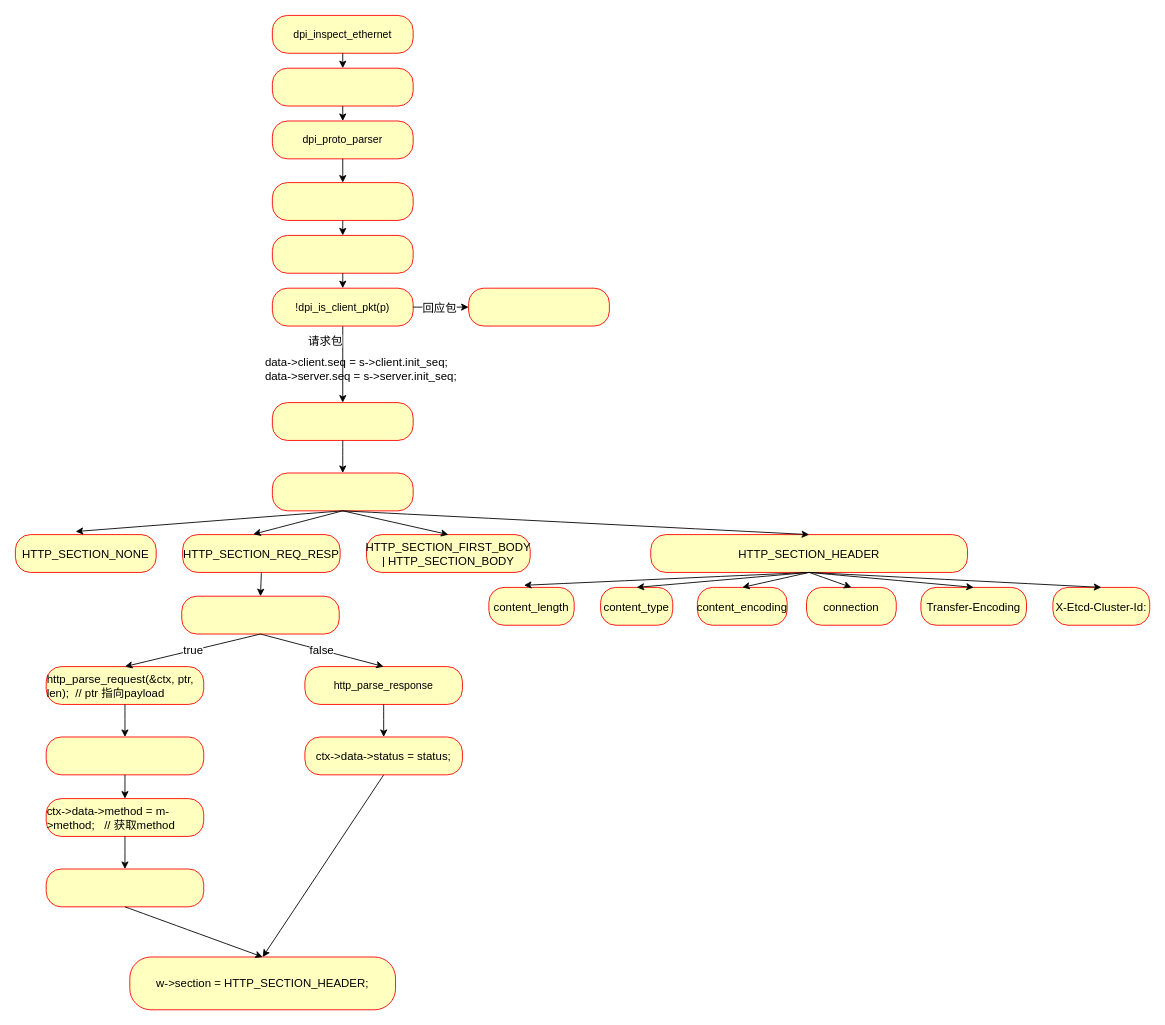
The diagram is 1165 pixels wide and 1025 high, and some of its shapes have lost their labels. Here are the shapes that lost their labels. From the top down, the box of each, then its label:
(271, 67, 413, 106): dpi_pkt_proto_parser
(271, 182, 413, 220): http_parser
(271, 235, 413, 273): dpi_get_parser_data==NULL
(468, 287, 609, 326): return
(271, 402, 413, 440): dpi_put_parser_data
(271, 472, 413, 511): w->section
(181, 595, 339, 634): is_request(w)
(45, 736, 204, 775): 循环 全局变量http_method
(45, 868, 204, 907): ctx->data->proto = proto;
